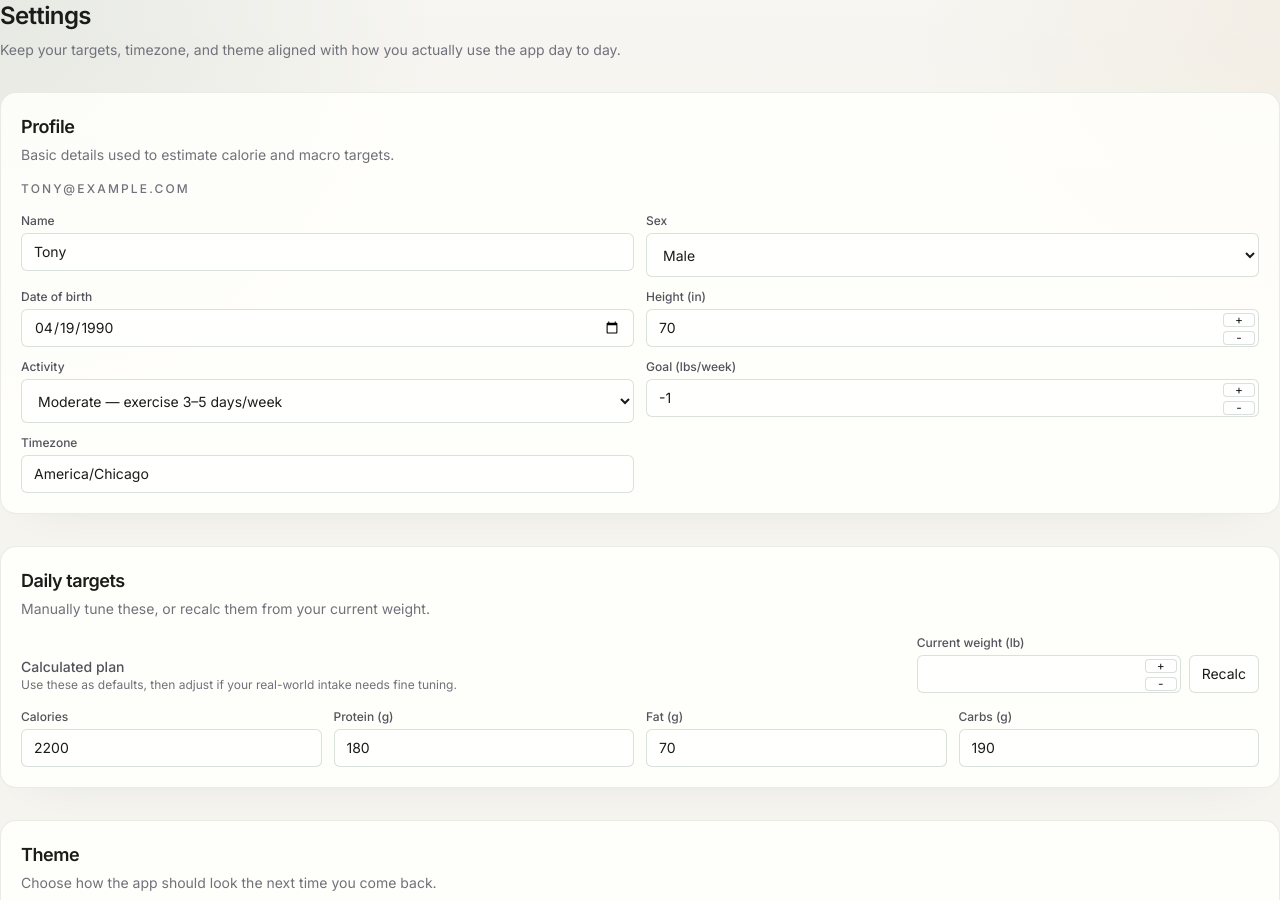
Test case: SettingsView › shows validation and save errors
Expected: the text "Daily targets" is shown, left=21, top=570, right=125, bottom=591
Clear the number field below "Calories". click: {"x": 171, "y": 748}
box: left=21, top=729, right=322, bottom=767
(page scrolled)
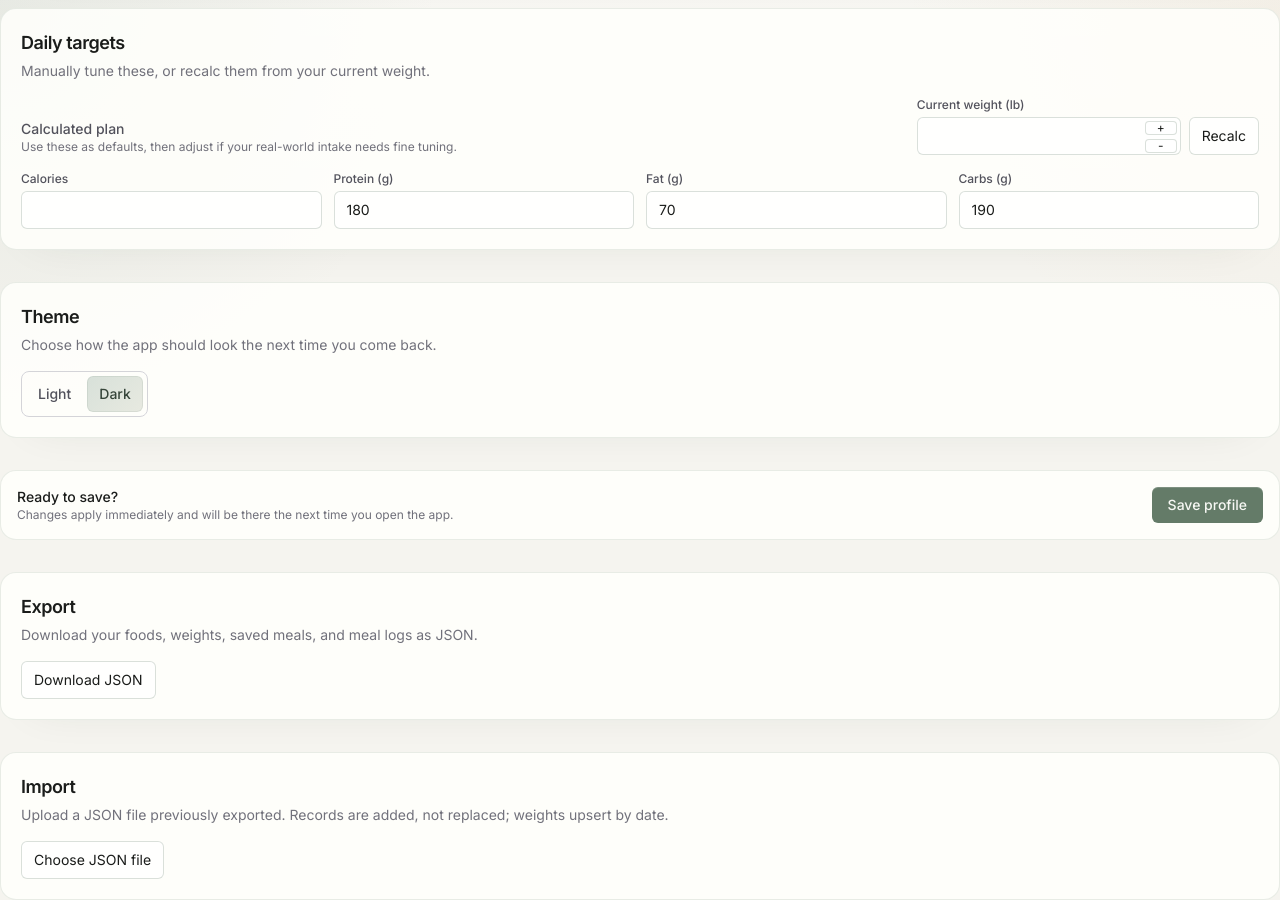
Click the button "Save profile". click: {"x": 1207, "y": 505}
box: left=1152, top=487, right=1263, bottom=523
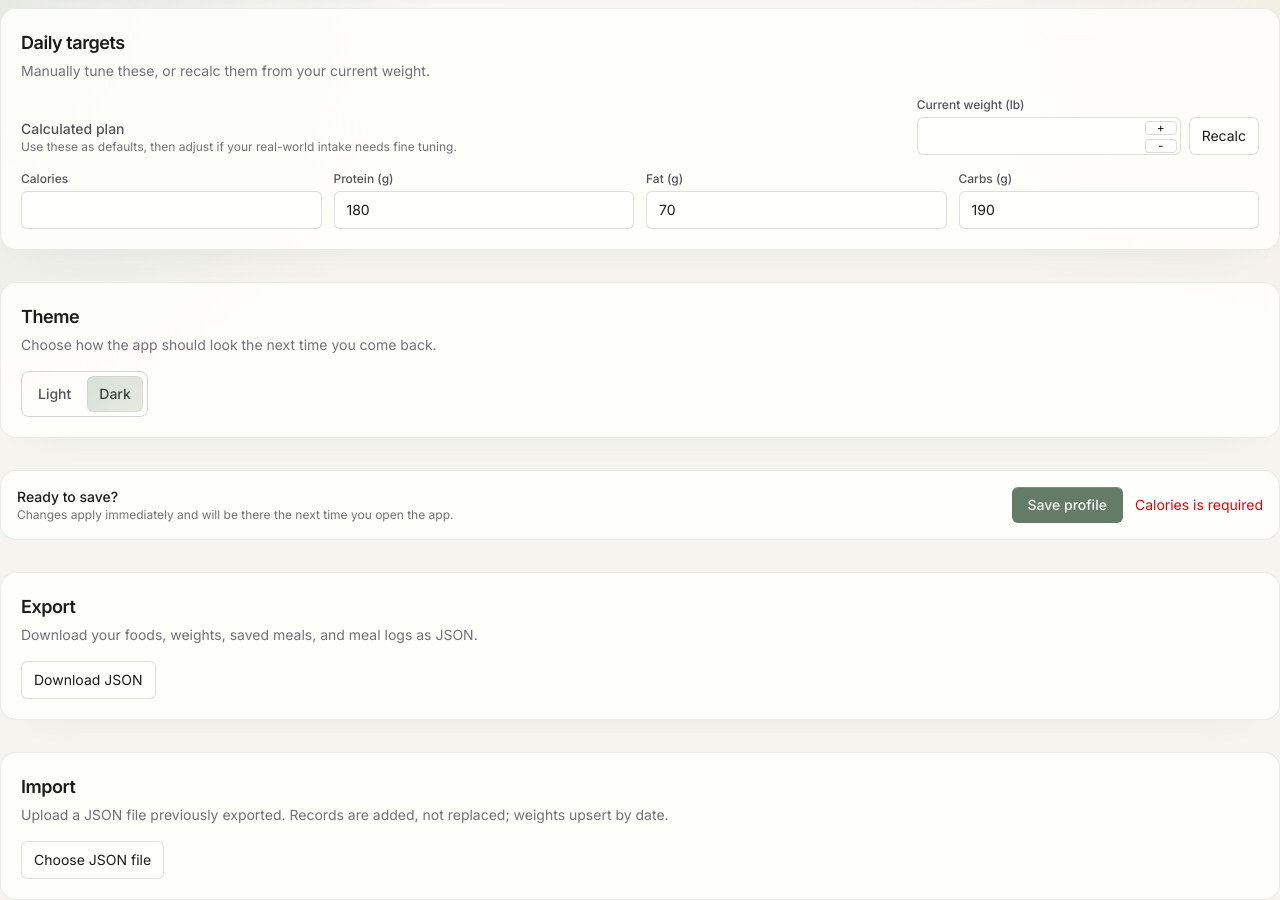
Now the text "Calories is required" is shown, box left=1135, top=495, right=1263, bottom=515
Type "2200" into the 1st number field. click: {"x": 171, "y": 210}
box: left=21, top=191, right=322, bottom=229
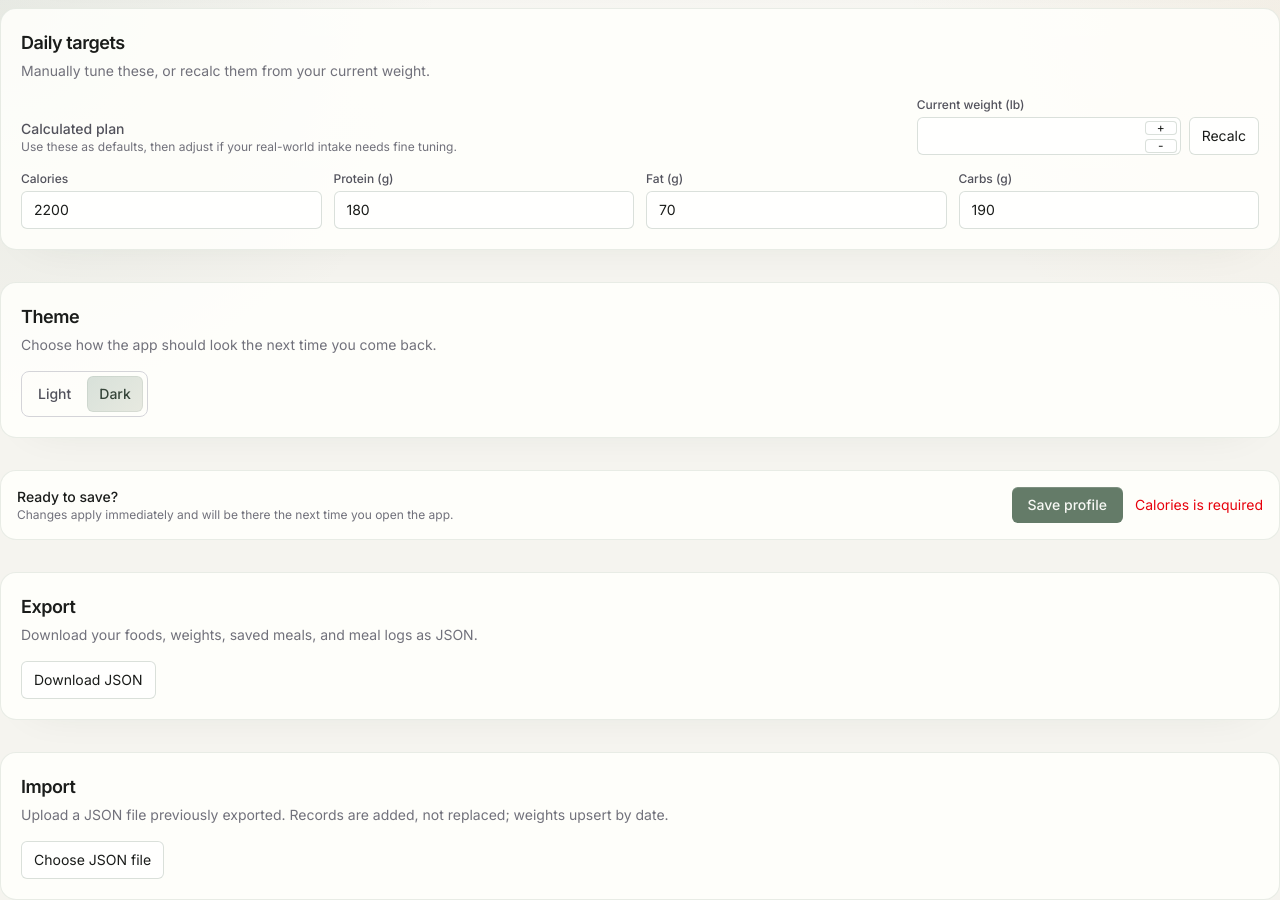
Click the button "Save profile". click: {"x": 1067, "y": 505}
box: left=1012, top=487, right=1123, bottom=523
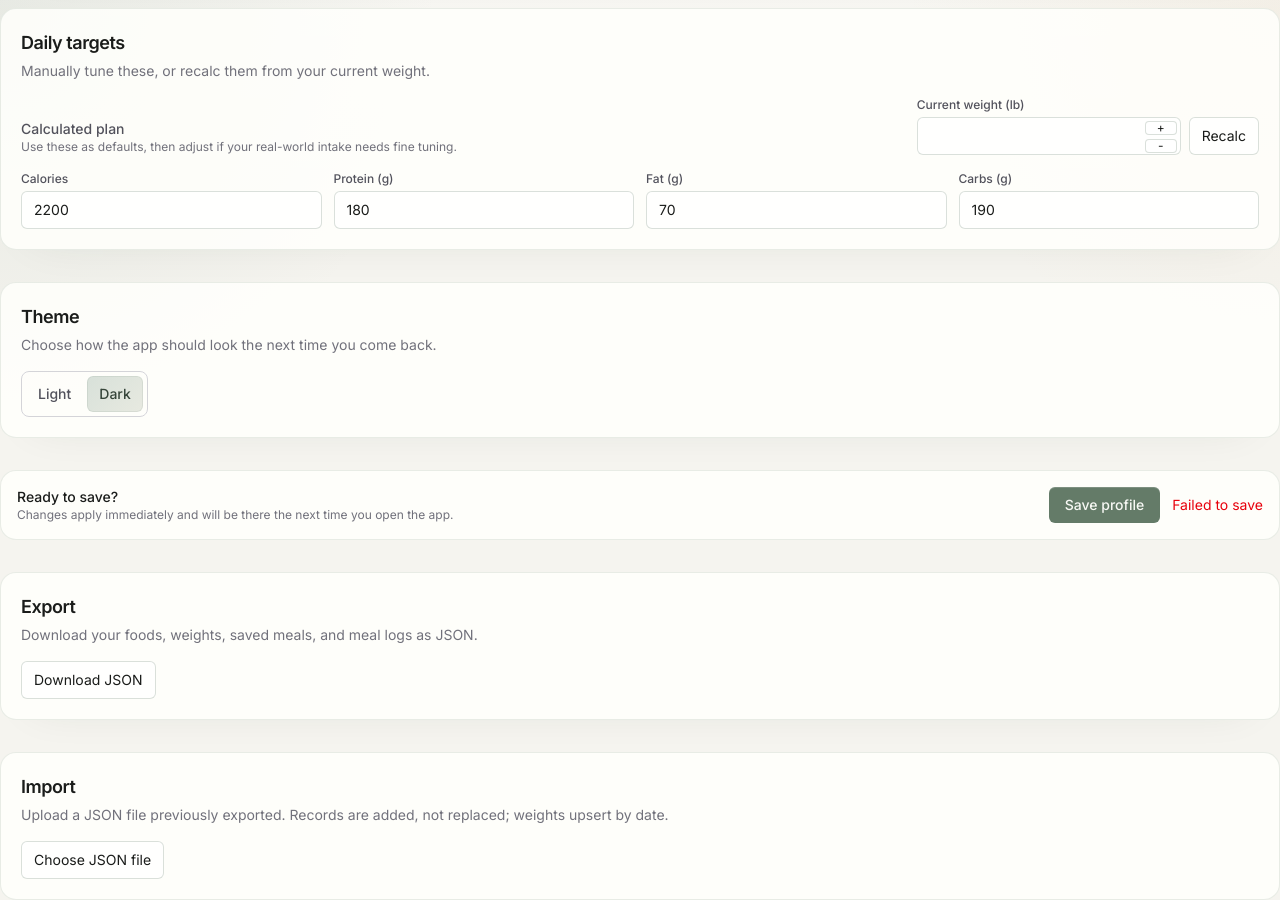
Now the text "Failed to save" is shown, box left=1172, top=495, right=1263, bottom=515
